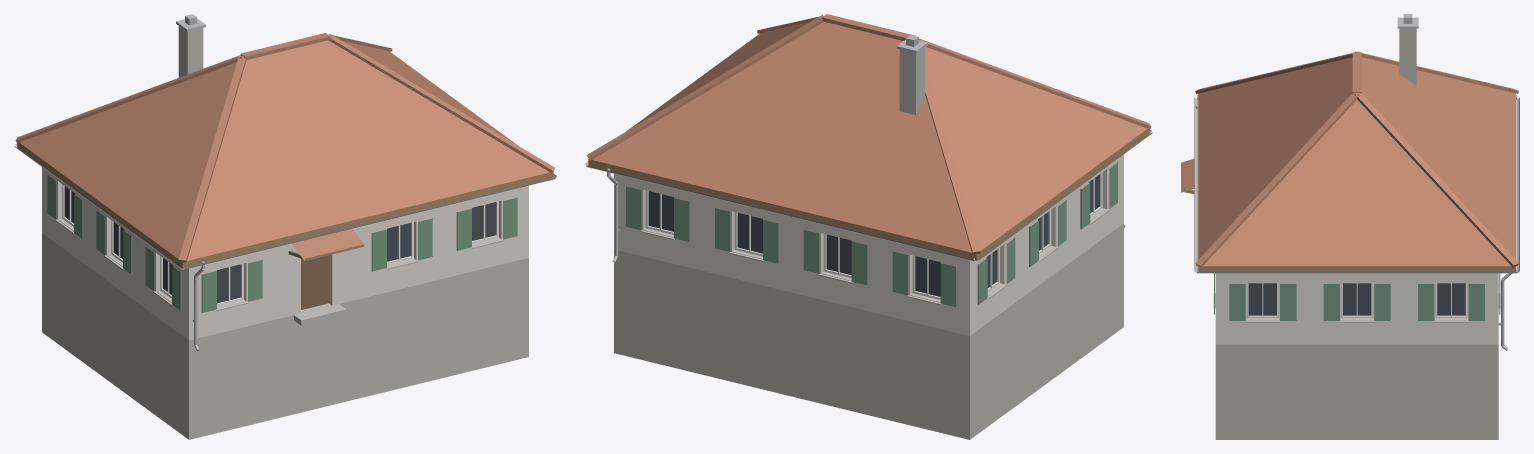
File: french_house_1_m.glb
The picture shows the model from 3 angles, left to right: view 1: azimuth 30°, elevation 25°; view 2: azimuth 150°, elevation 25°; view 3: azimuth 270°, elevation 25°; orthographic projection. The views are drawn at different scales.
Visible parts, largest first — view 1: french_house_1_m; view 2: french_house_1_m; view 3: french_house_1_m.
Boxes of the visible parts, x1,y1,x2,y2 form: french_house_1_m: [14, 14, 556, 439]; french_house_1_m: [585, 14, 1152, 439]; french_house_1_m: [1181, 14, 1519, 439].
Size of the model in its own units: 13.3 by 10.97 by 10.78.
